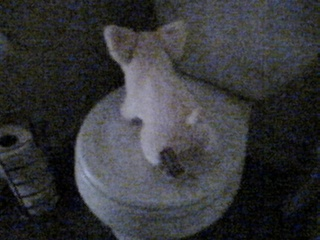piggy: (102, 18, 218, 170)
